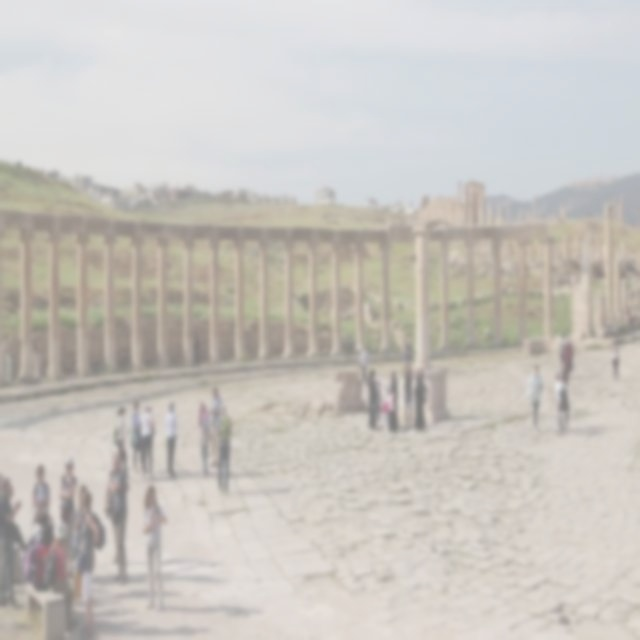pessoa: (140, 481, 168, 616), (78, 489, 102, 639), (46, 518, 76, 634), (0, 474, 23, 610), (107, 452, 130, 587), (0, 469, 29, 564), (58, 454, 78, 554), (214, 402, 233, 498), (22, 508, 52, 566), (110, 404, 131, 480), (138, 402, 156, 482), (208, 382, 224, 470), (196, 398, 212, 481), (549, 370, 568, 438), (164, 398, 179, 478), (73, 484, 89, 556), (529, 362, 544, 434), (31, 462, 50, 518), (413, 369, 429, 432), (400, 366, 415, 430), (132, 398, 144, 474), (386, 368, 399, 436), (354, 342, 372, 389), (558, 368, 571, 433), (367, 368, 379, 432), (562, 333, 576, 379), (380, 378, 390, 430), (401, 336, 413, 379), (610, 337, 620, 383), (192, 328, 202, 370), (557, 331, 565, 376)
